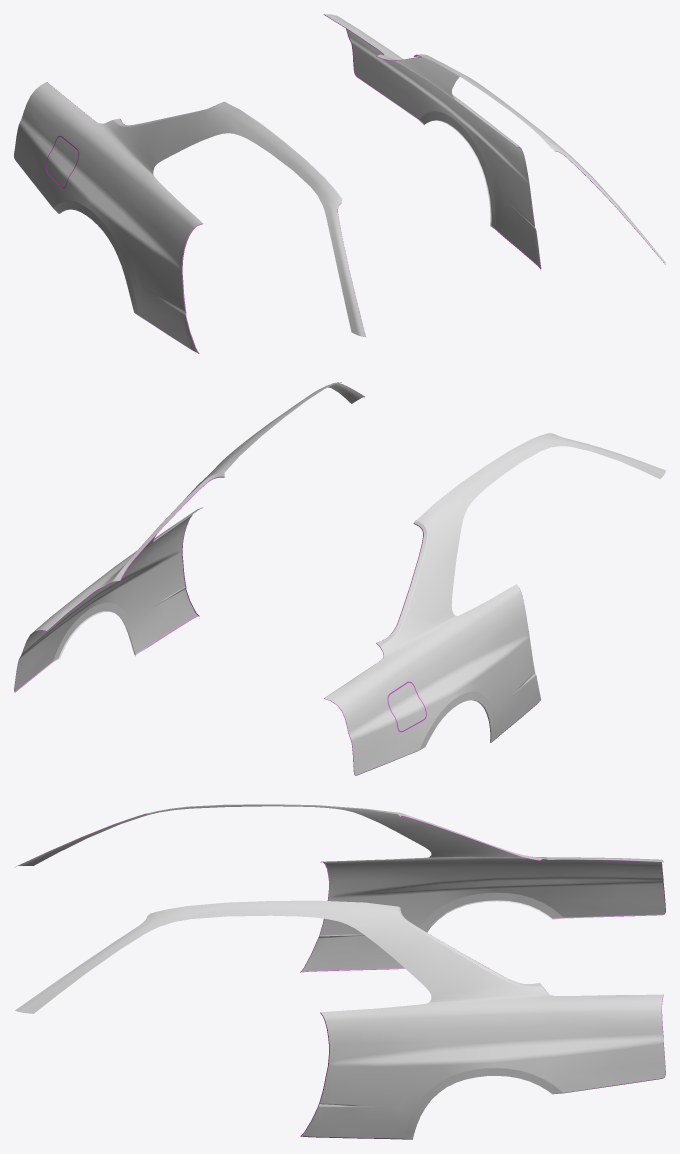
File: Car_Nissan_SkylineGTRVspecR34_1999_FendersR_SetA.fbx
3 renders of one model, top to bottom at view 1: azimuth 30°, elevation 25°; view 2: azimuth 150°, elevation 25°; view 3: azimuth 270°, elevation 25°, orthographic.
Visible parts, largest first — view 1: FendersR 6; view 2: FendersR 6; view 3: FendersR 6.
Boxes of the visible parts, bbox=[...] form: FendersR 6: bbox=[14, 14, 665, 353]; FendersR 6: bbox=[14, 382, 665, 775]; FendersR 6: bbox=[14, 804, 665, 1139].
Size of the model in its own units: 1.78 by 0.9508 by 2.79.
